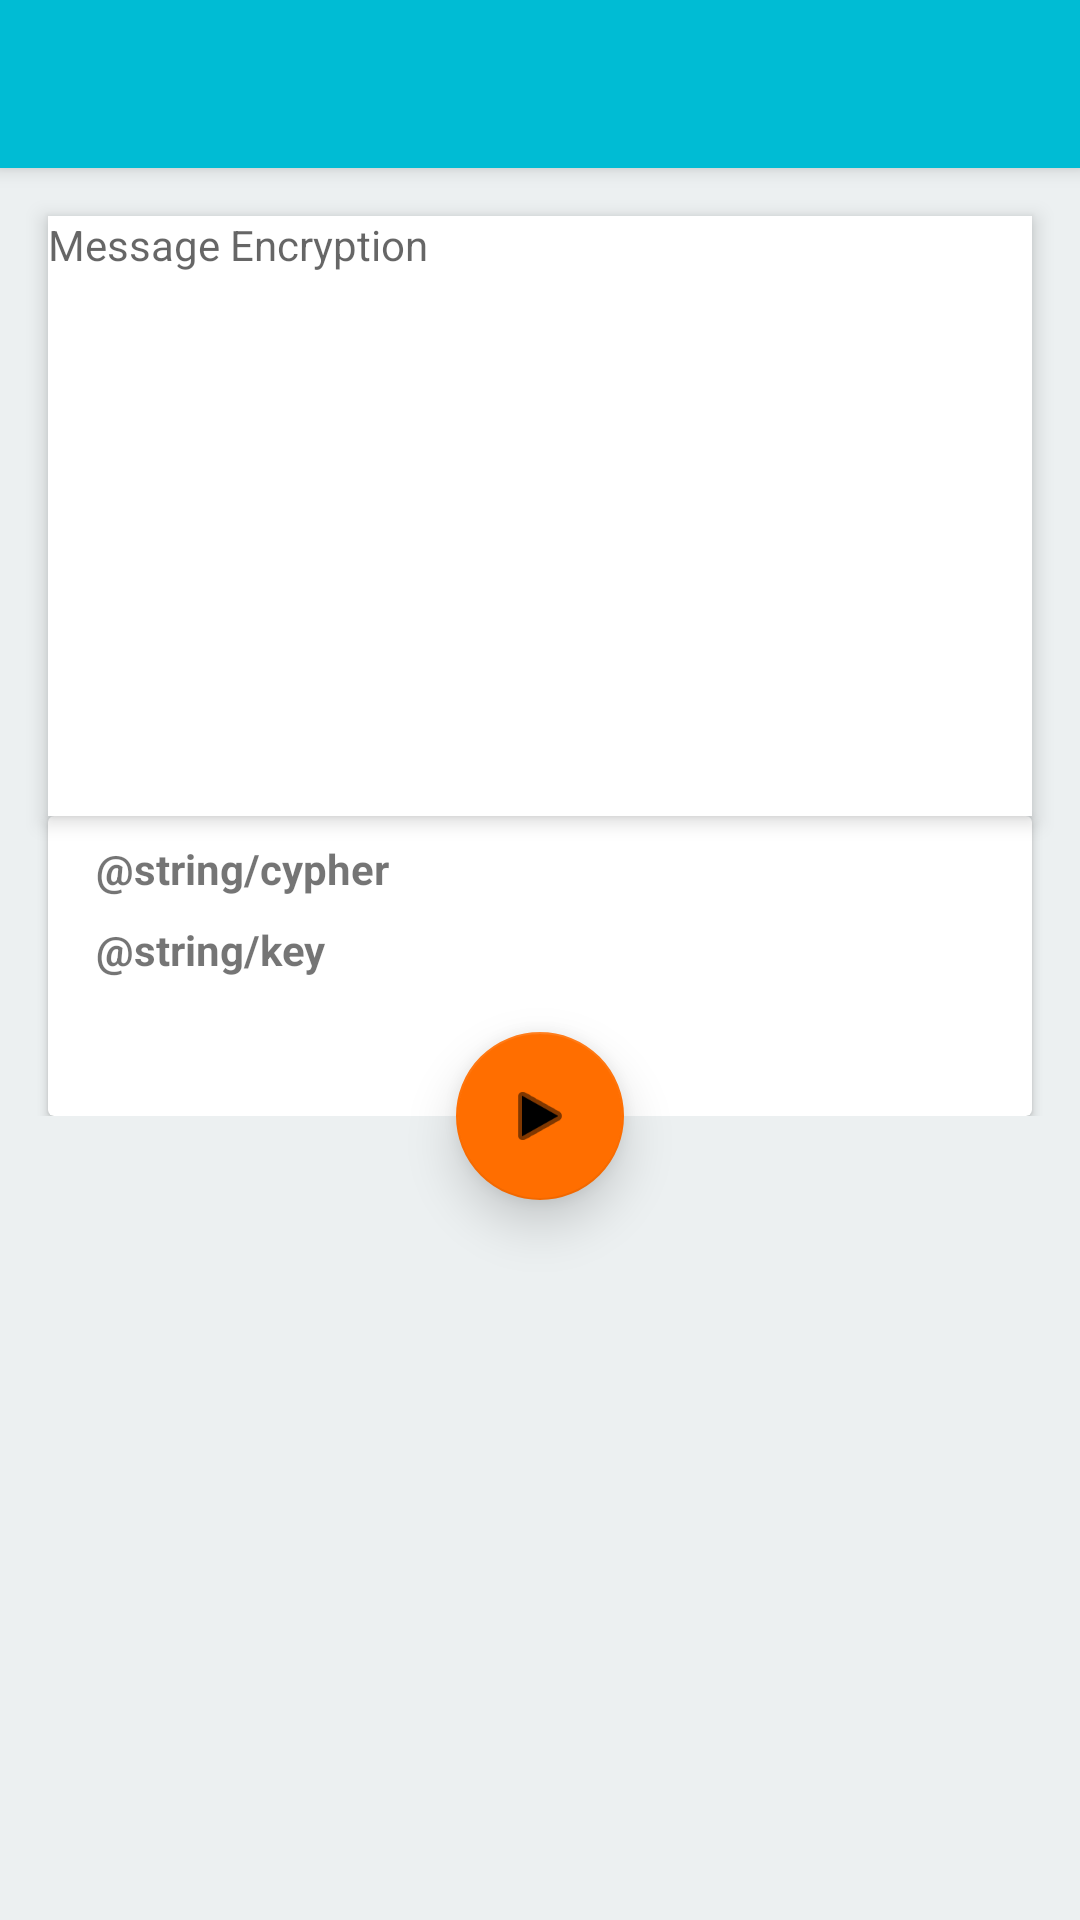

Point at icon controls on the screen. Image size 1080px x 1920px, points as (x,y).
play: (540,1116)
